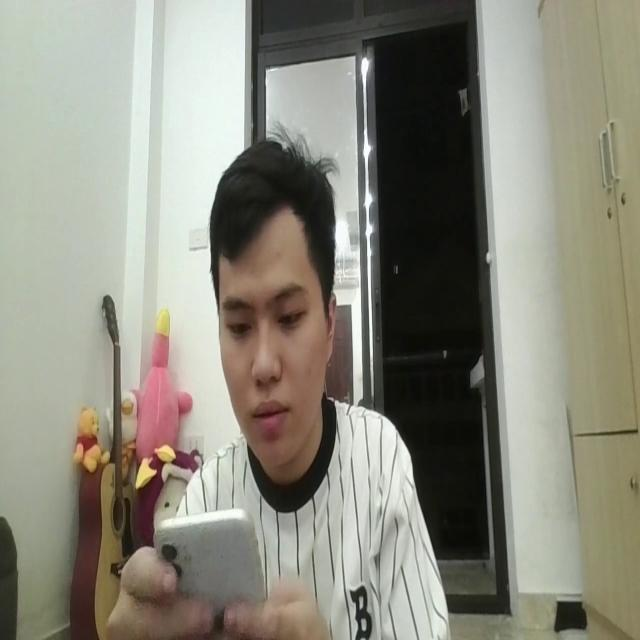phone: (154, 509, 270, 629)
student: (104, 126, 452, 640)
